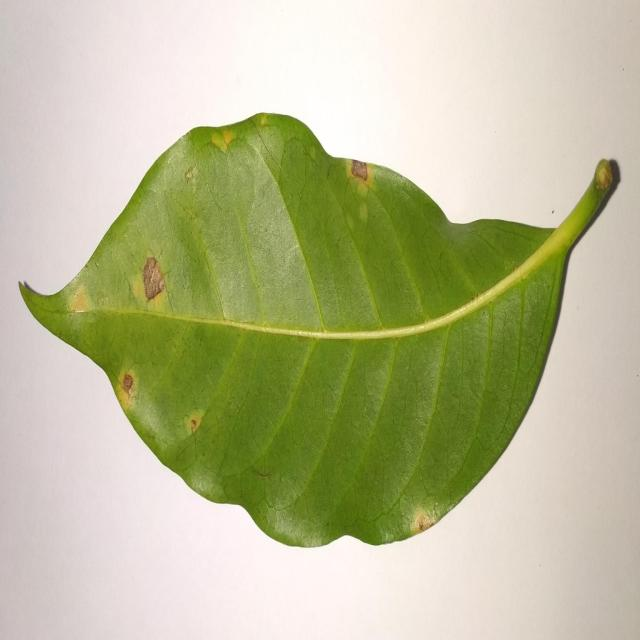Enfermedad-Mancha-de-hierro: (19, 112, 621, 551)
